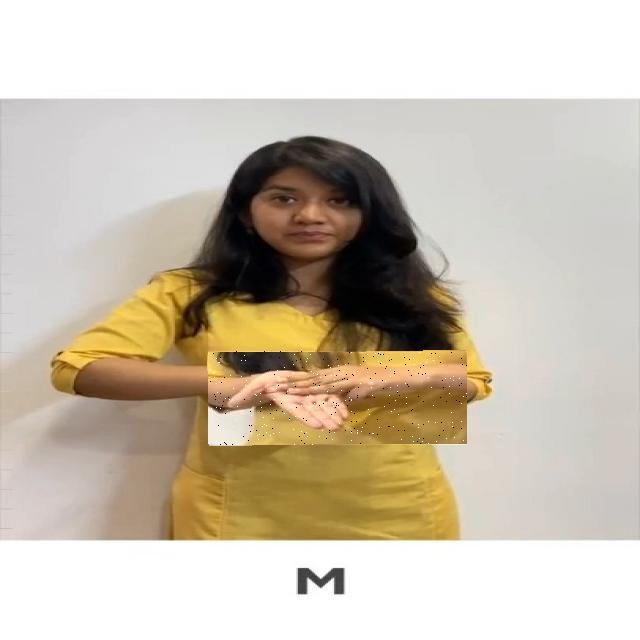M: (208, 351, 467, 445)
